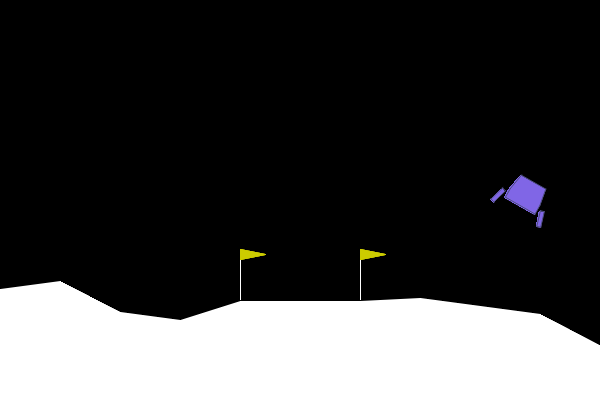lander: (488, 166, 560, 230)
